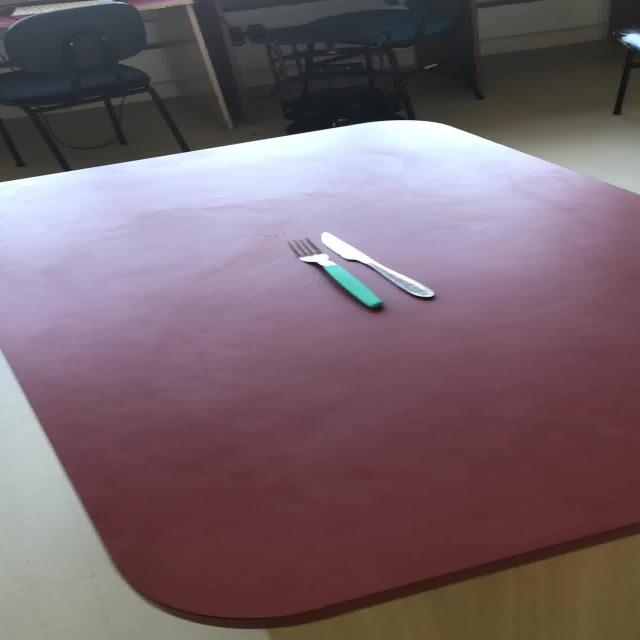fork: (285, 236, 382, 309)
knife fork: (284, 230, 435, 309), (318, 230, 435, 298)
